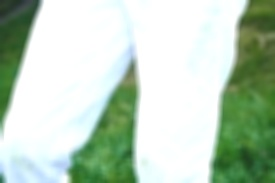earth: (189, 24, 219, 76), (11, 145, 31, 174), (138, 156, 157, 181), (207, 1, 222, 19)
